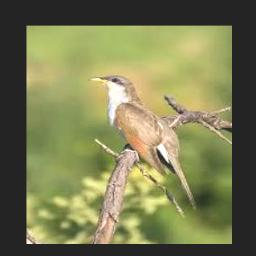Cuckoo: (89, 75, 196, 209)
